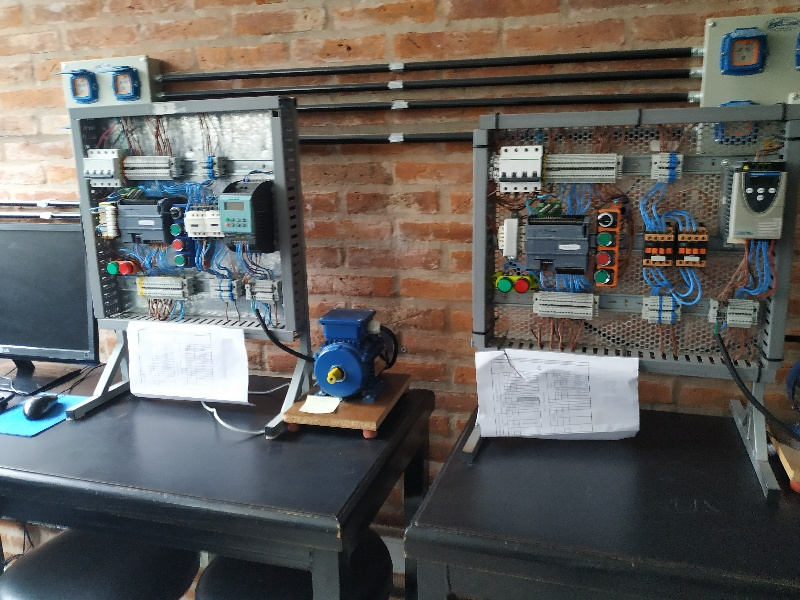Tablero 3: (72, 113, 295, 332)
Tablero 4: (482, 120, 787, 371)
